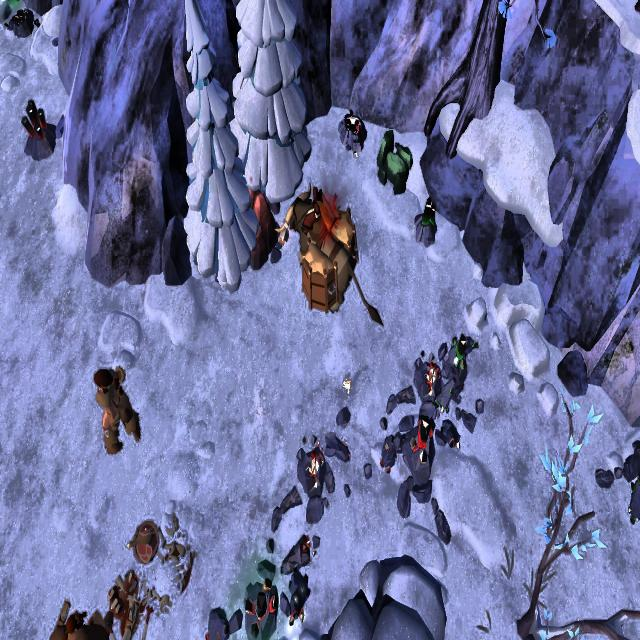enemy_factionKeeper: (92, 360, 142, 458)
ore_t3: (422, 195, 441, 232)
ore_t5: (20, 93, 46, 144)
rock_t3: (369, 130, 416, 196)
